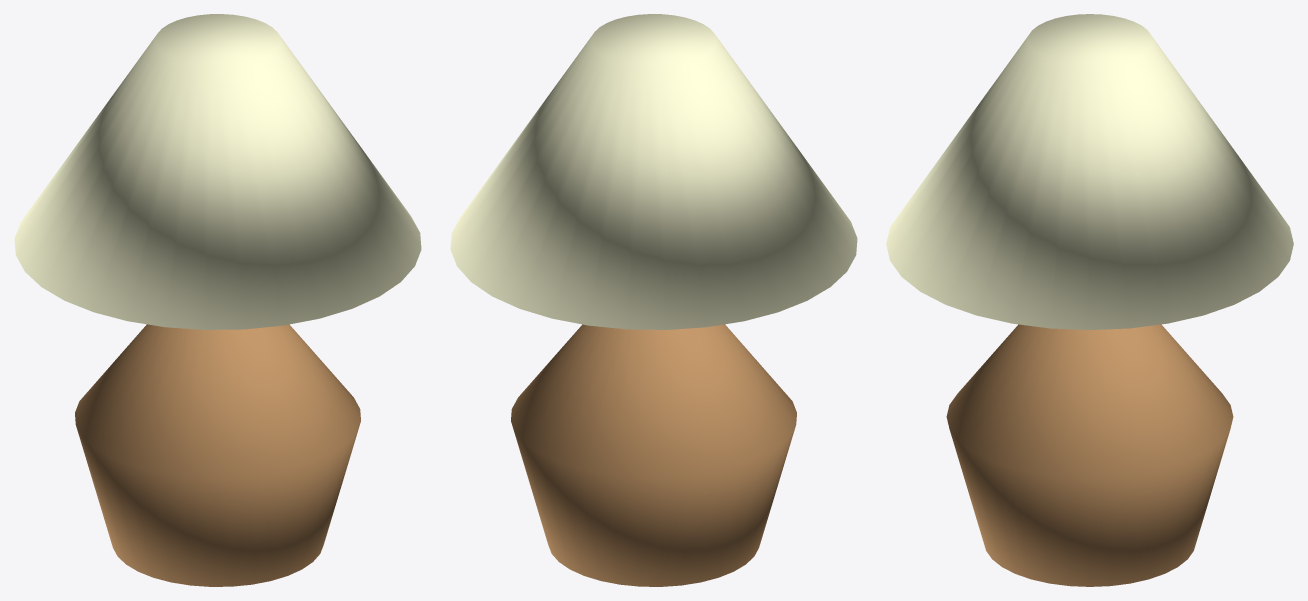
The model's file is LampV1.fbx.
3 views of the same model, side by side, from view 1: azimuth 30°, elevation 25°; view 2: azimuth 150°, elevation 25°; view 3: azimuth 270°, elevation 25° (orthographic).
Parts seen in each view (by area): view 1: Sphere; view 2: Sphere; view 3: Sphere.
Boxes of the visible parts, <box> form: Sphere: <box>14,14,421,586</box>; Sphere: <box>450,14,857,586</box>; Sphere: <box>886,14,1293,586</box>.
Size of the model in its own units: 493 by 493 by 669.
